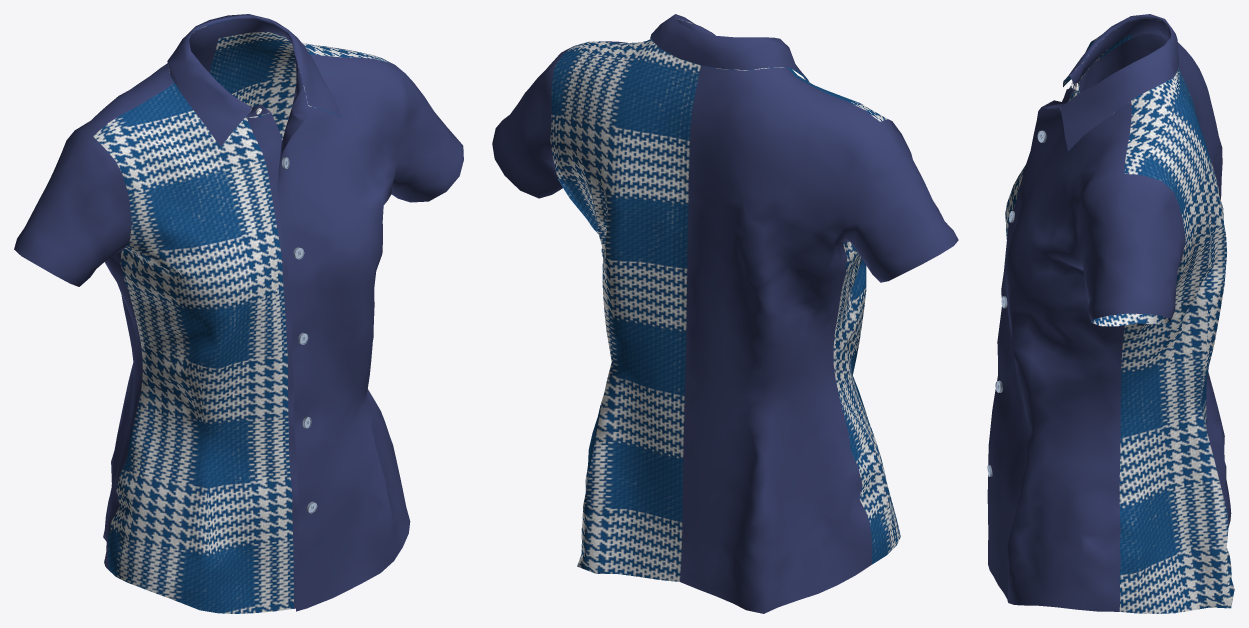
Rendered from dress2.glb.
The picture shows the model from 3 angles, left to right: view 1: azimuth 30°, elevation 25°; view 2: azimuth 150°, elevation 25°; view 3: azimuth 270°, elevation 25°; orthographic projection. The views are drawn at different scales.
Parts seen in each view (by area): view 1: Object_3, Object_2; view 2: Object_2, Object_3; view 3: Object_2, Object_3, Object_4.
Boxes of the visible parts, x1,y1,x2,y2 form: Object_3: (93,19,389,613); Object_2: (14,14,463,611); Object_2: (492,14,958,613); Object_3: (550,19,900,581); Object_2: (987,14,1231,611); Object_3: (1005,18,1234,613); Object_4: (987,130,1046,476).
Bounding box in the file's own units: 550 × 626 × 260.
Materials: 4 (3 with a texture image).
